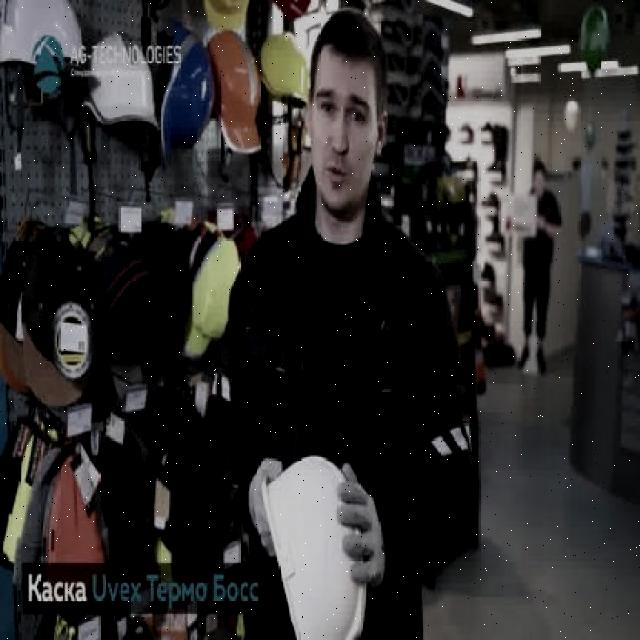Gloves: (338, 458, 386, 590), (248, 457, 284, 555)
Helmet: (258, 451, 369, 638), (157, 15, 217, 170), (82, 27, 162, 132), (206, 26, 262, 156), (0, 0, 92, 75), (258, 30, 312, 104)
